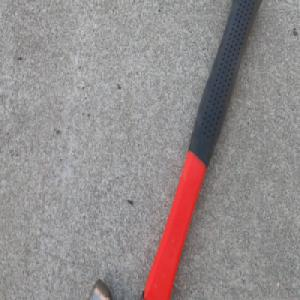Hammer: (86, 0, 263, 300)
